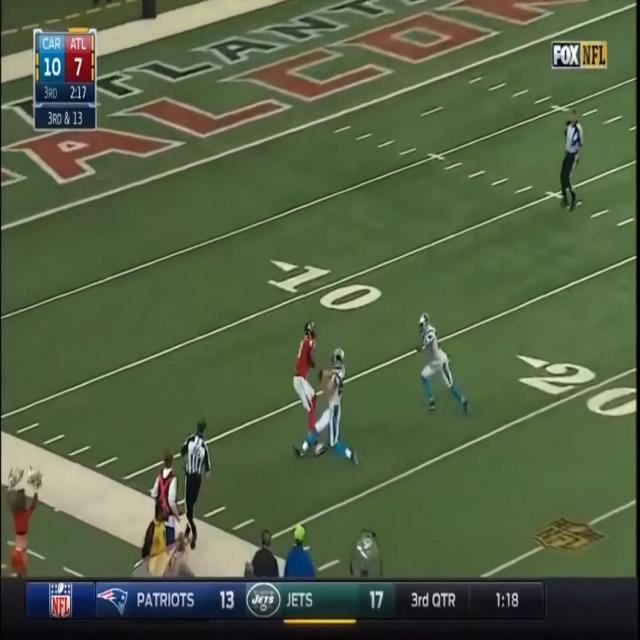players: (302, 342, 352, 455), (296, 316, 332, 459), (416, 318, 464, 415)
